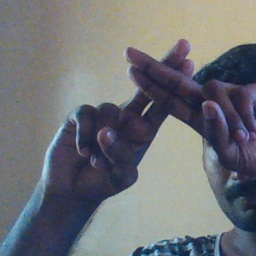F: (92, 30, 241, 157)
